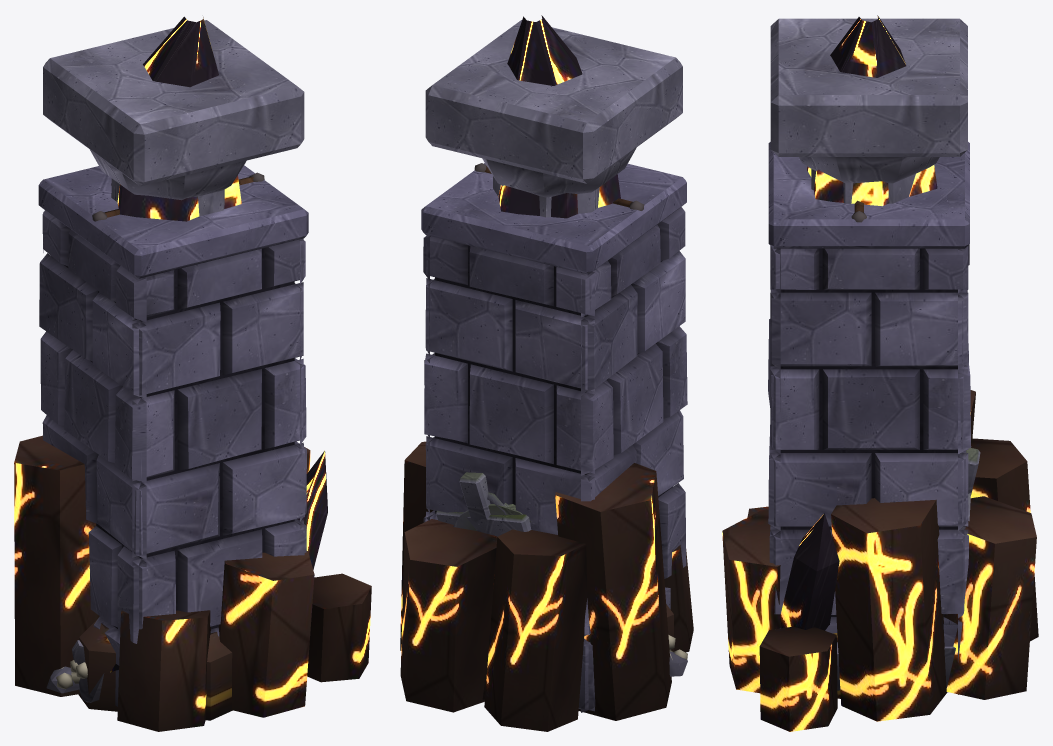
The model's file is kit_dungeon.glb.
The picture shows the model from 3 angles, left to right: view 1: azimuth 30°, elevation 25°; view 2: azimuth 150°, elevation 25°; view 3: azimuth 270°, elevation 25°; orthographic projection.
Parts seen in each view (by area): view 1: dng_wall_mesh, throne_basalt_rock_mesh, dng_pillar_mesh, throne_obsidian_pillar_mesh, dng_rubble_a_mesh; view 2: dng_wall_mesh, throne_basalt_rock_mesh, dng_pillar_mesh, throne_obsidian_pillar_mesh, dng_grave_b_mesh, dng_grave_a_mesh; view 3: dng_wall_mesh, throne_basalt_rock_mesh, dng_pillar_mesh, throne_obsidian_pillar_mesh.
Part boxes in pixels (bbox=[...]): dng_wall_mesh: bbox=[38, 165, 308, 706]; throne_basalt_rock_mesh: bbox=[14, 435, 371, 731]; dng_pillar_mesh: bbox=[43, 20, 304, 216]; throne_obsidian_pillar_mesh: bbox=[78, 16, 327, 720]; dng_rubble_a_mesh: bbox=[72, 640, 104, 702]; dng_wall_mesh: bbox=[421, 163, 687, 712]; throne_basalt_rock_mesh: bbox=[400, 441, 693, 731]; dng_pillar_mesh: bbox=[425, 20, 682, 709]; throne_obsidian_pillar_mesh: bbox=[482, 15, 673, 699]; dng_grave_b_mesh: bbox=[435, 472, 531, 536]; dng_grave_a_mesh: bbox=[453, 504, 531, 530]; dng_wall_mesh: bbox=[768, 142, 971, 694]; throne_basalt_rock_mesh: bbox=[722, 390, 1038, 731]; dng_pillar_mesh: bbox=[770, 18, 967, 687]; throne_obsidian_pillar_mesh: bbox=[779, 15, 937, 698].
Bounding box in the file's own units: 1.69 × 3.59 × 1.57.
Materials: 12 (11 with a texture image).
